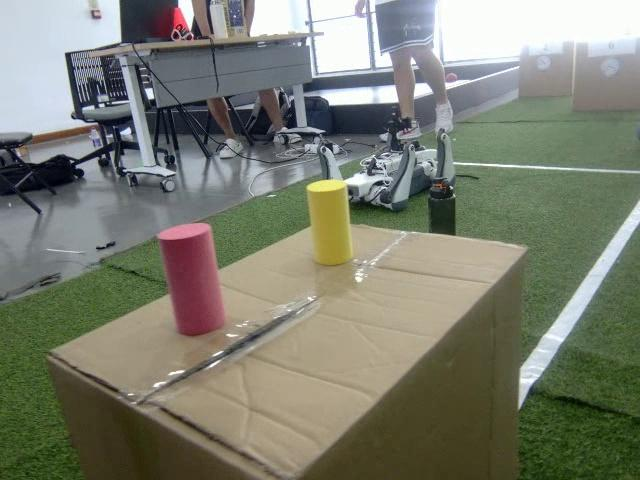red_cylinder: (156, 224, 232, 336)
yellow_cylinder: (305, 179, 358, 267)
